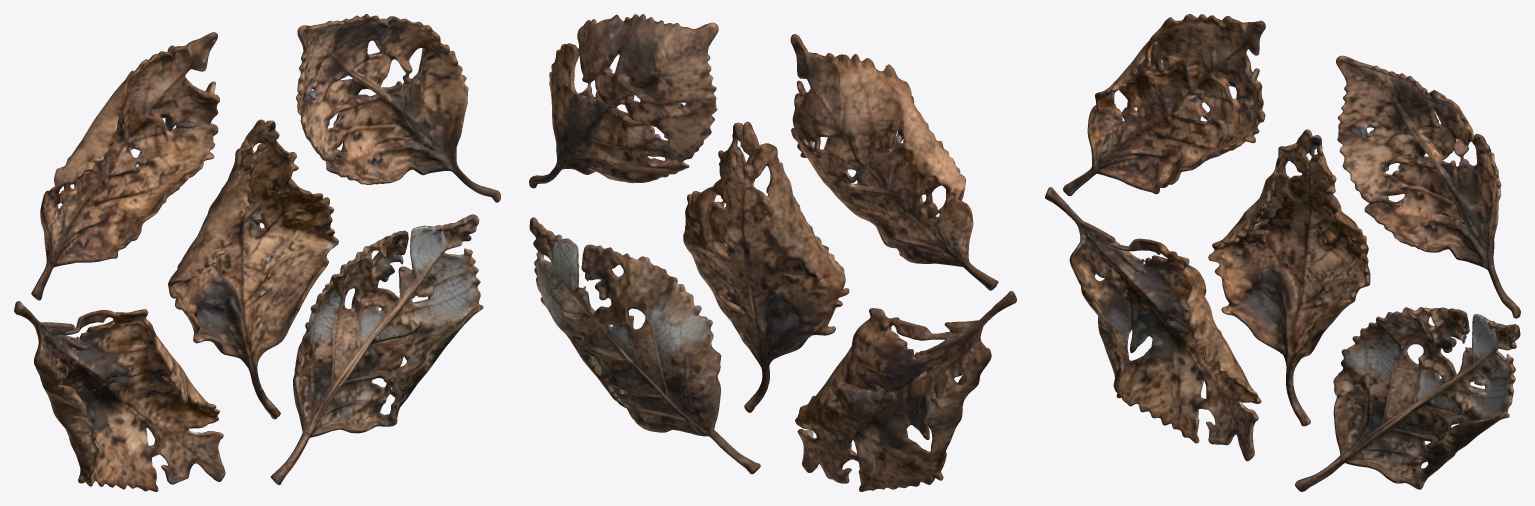
Rendered from leaf-litter-v12.glb.
The picture shows the model from 3 angles, left to right: view 1: azimuth 30°, elevation 25°; view 2: azimuth 150°, elevation 25°; view 3: azimuth 330°, elevation 25°; orthographic projection. The views are drawn at different scales.
Parts seen in each view (by area): view 1: geometry_0; view 2: geometry_0; view 3: geometry_0.
Part boxes in pixels (left/top/right/bottom): geometry_0: left=14, top=14, right=500, bottom=491; geometry_0: left=529, top=14, right=1016, bottom=491; geometry_0: left=1045, top=14, right=1520, bottom=491.
Bounding box in the file's own units: 0.085 × 0.0767 × 0.00955.
Materials: 1 (1 with a texture image).
